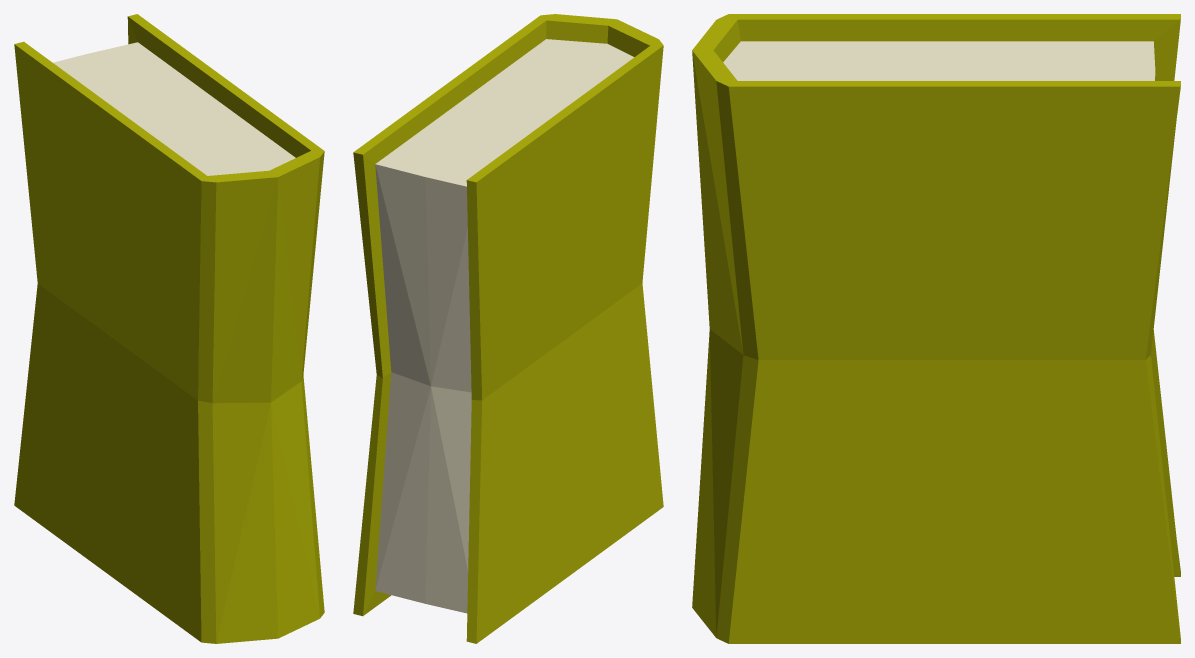
The model's file is book_y.fbx.
3 views of the same model, side by side, from view 1: azimuth 30°, elevation 25°; view 2: azimuth 150°, elevation 25°; view 3: azimuth 270°, elevation 25° (orthographic). The views are drawn at different scales.
Parts seen in each view (by area): view 1: Box001; view 2: Box001; view 3: Box001.
Boxes of the visible parts, x1,y1,x2,y2 form: Box001: (14,14,324,643); Box001: (353,14,663,643); Box001: (692,14,1180,643).
Size of the model in its own units: 19 by 68 by 54.04.
